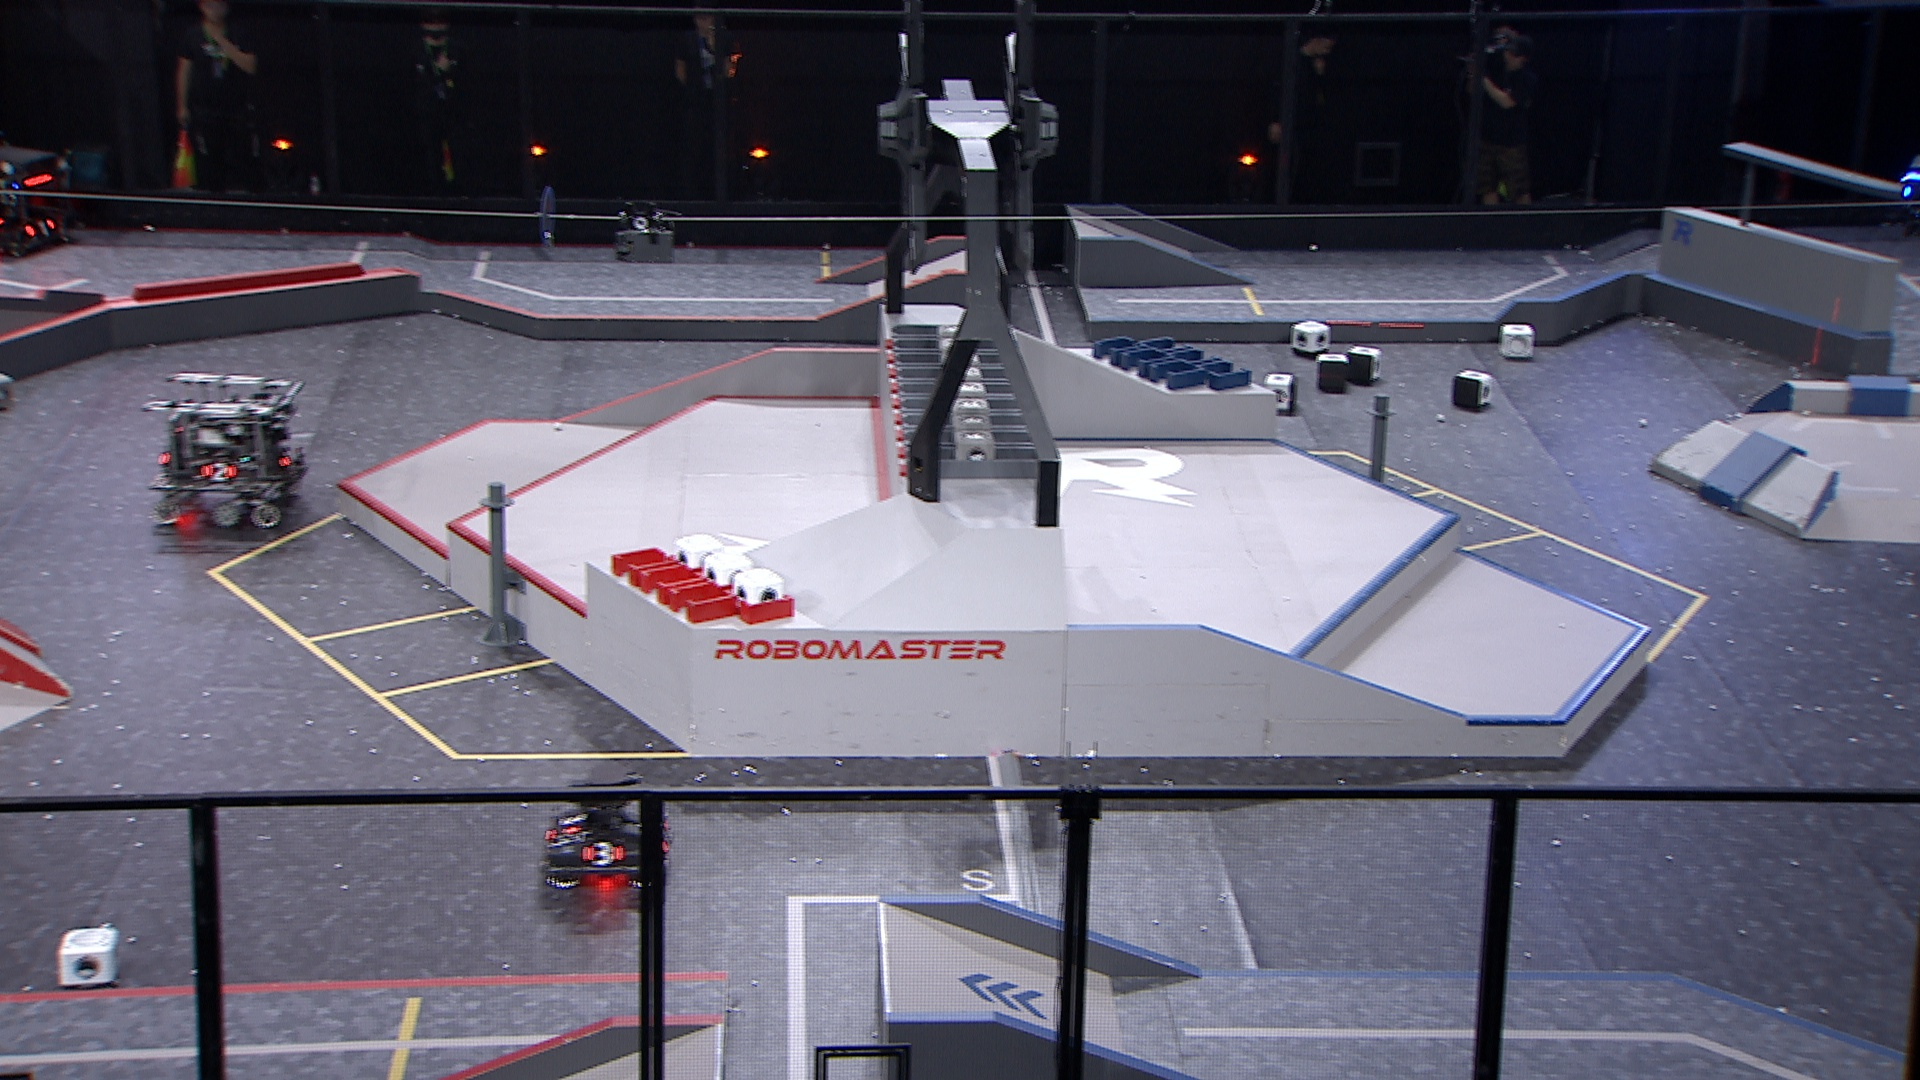armor: (580, 840, 626, 870), (556, 806, 589, 840), (200, 460, 237, 485), (21, 214, 58, 237), (278, 448, 295, 471)
car: (140, 367, 314, 531), (541, 761, 671, 893)
watcher: (1888, 153, 1920, 237)
